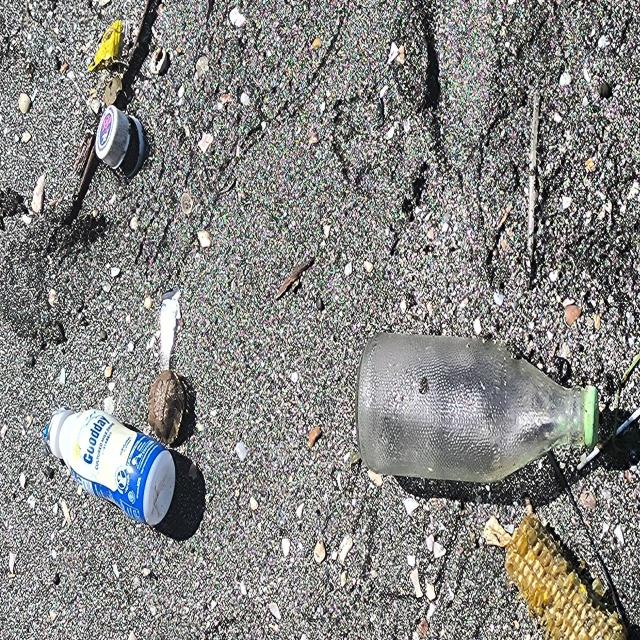glass_waste: (356, 330, 601, 485)
plastic_waste: (47, 404, 180, 526), (96, 104, 132, 175)
